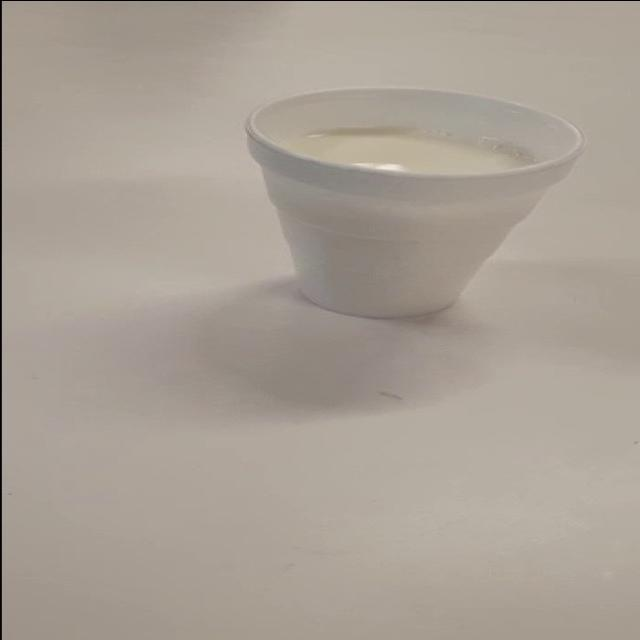Milk: (222, 63, 618, 329)
